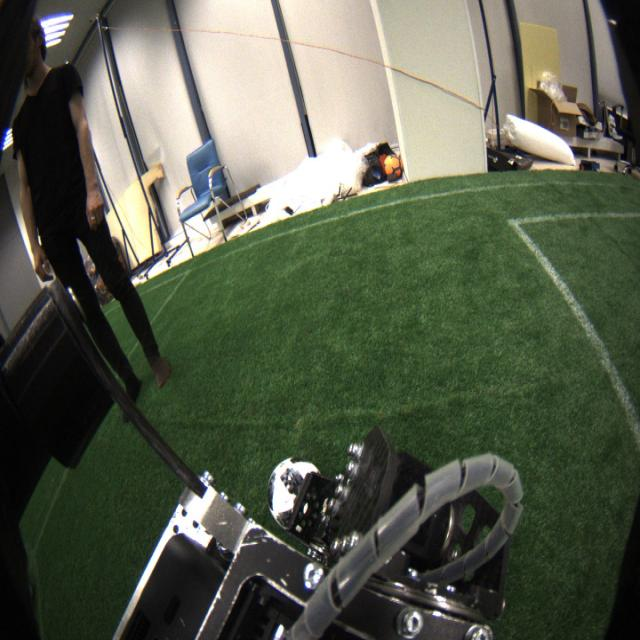ball: (266, 454, 325, 529)
